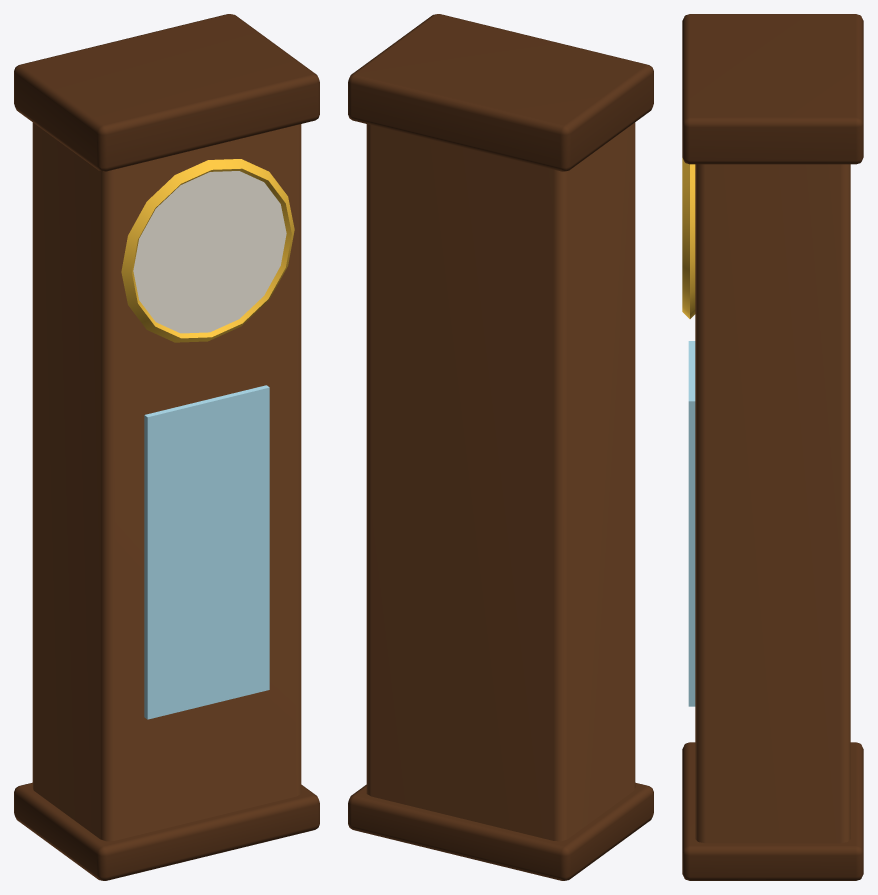
Rendered from GrandfatherClock.fbx.
3 views of the same model, side by side, from view 1: azimuth 30°, elevation 25°; view 2: azimuth 150°, elevation 25°; view 3: azimuth 270°, elevation 25° (orthographic).
Visible parts, largest first — view 1: GrandfatherClock; view 2: GrandfatherClock; view 3: GrandfatherClock.
Part boxes in pixels (x1,y1,x2,y2): GrandfatherClock: [14, 14, 319, 880]; GrandfatherClock: [348, 14, 653, 880]; GrandfatherClock: [682, 14, 863, 880].
Size of the model in its own units: 2 by 6.5 by 1.4.
1 material, 1 textured.
